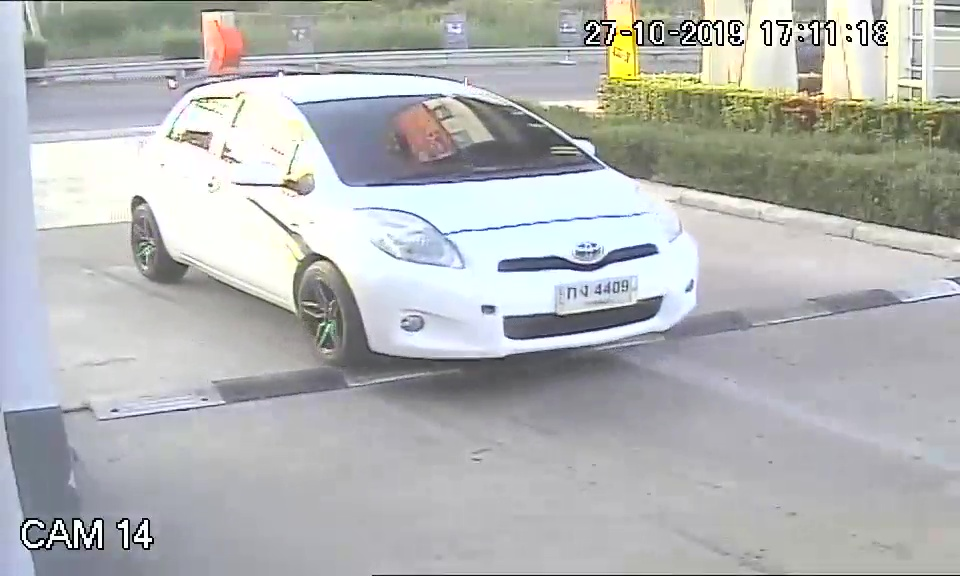sedan: (125, 65, 703, 365)
